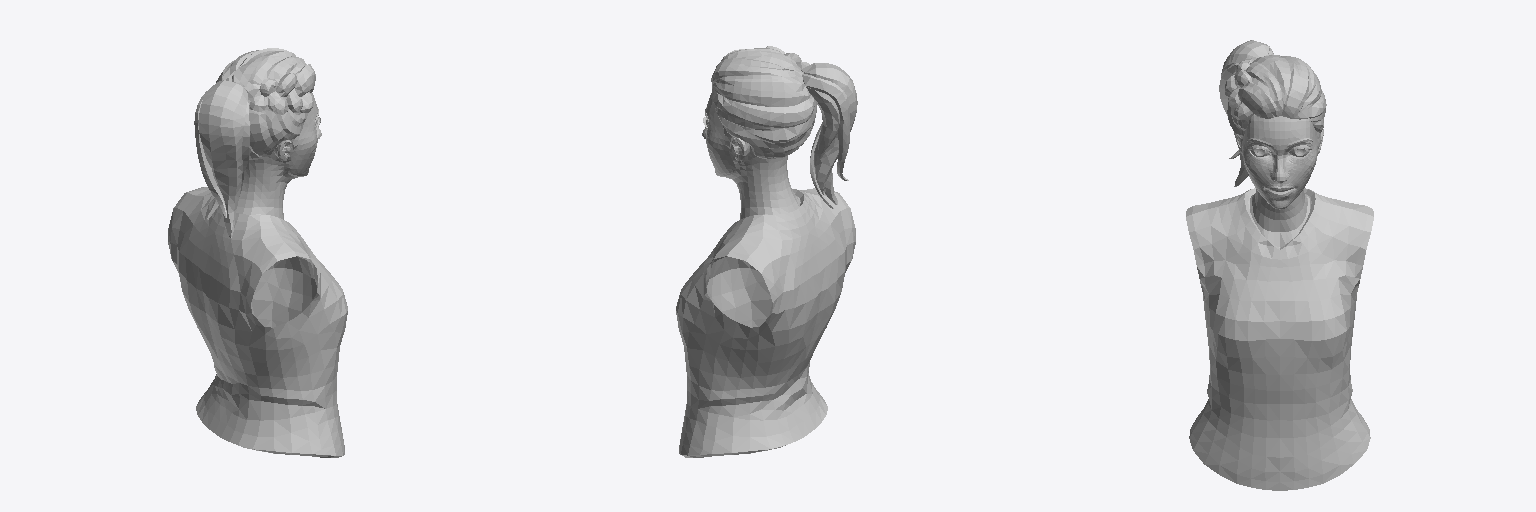
Rendered from SocBod.obj.
The picture shows the model from 3 angles: view 1: azimuth 30°, elevation 25°; view 2: azimuth 150°, elevation 25°; view 3: azimuth 270°, elevation 25°; orthographic projection.
Parts seen in each view (by area): view 1: polySurface34 polySurface32 polySurface30 polySurface13; view 2: polySurface34 polySurface32 polySurface30 polySurface13; view 3: polySurface34 polySurface32 polySurface30 polySurface13.
Part boxes in pixels (x1,y1,x2,y2): polySurface34 polySurface32 polySurface30 polySurface13: (168,48,347,457); polySurface34 polySurface32 polySurface30 polySurface13: (676,46,857,457); polySurface34 polySurface32 polySurface30 polySurface13: (1186,40,1373,490).
Bounding box in the file's own units: 0.7519 × 1.97 × 0.8435.